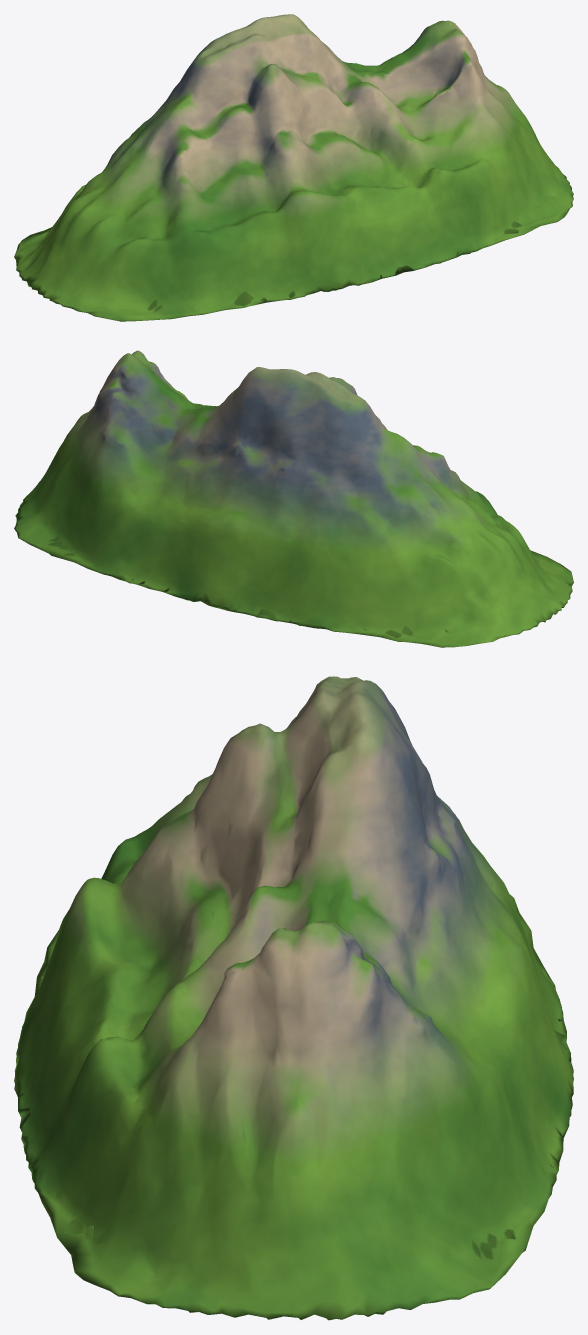
Rendered from backdrop_mountain.glb.
3 views of the same model, one above another, from view 1: azimuth 30°, elevation 25°; view 2: azimuth 150°, elevation 25°; view 3: azimuth 270°, elevation 25° (orthographic). The views are drawn at different scales.
Visible parts, largest first — view 1: Backdrop_Mountain; view 2: Backdrop_Mountain; view 3: Backdrop_Mountain.
Part boxes in pixels (box(x1,y1,x2,y2)): Backdrop_Mountain: box(14, 14, 573, 321); Backdrop_Mountain: box(14, 350, 573, 647); Backdrop_Mountain: box(14, 676, 573, 1320).
Size of the model in its own units: 97.41 by 36.3 by 48.79.
Materials: 1 (1 with a texture image).
